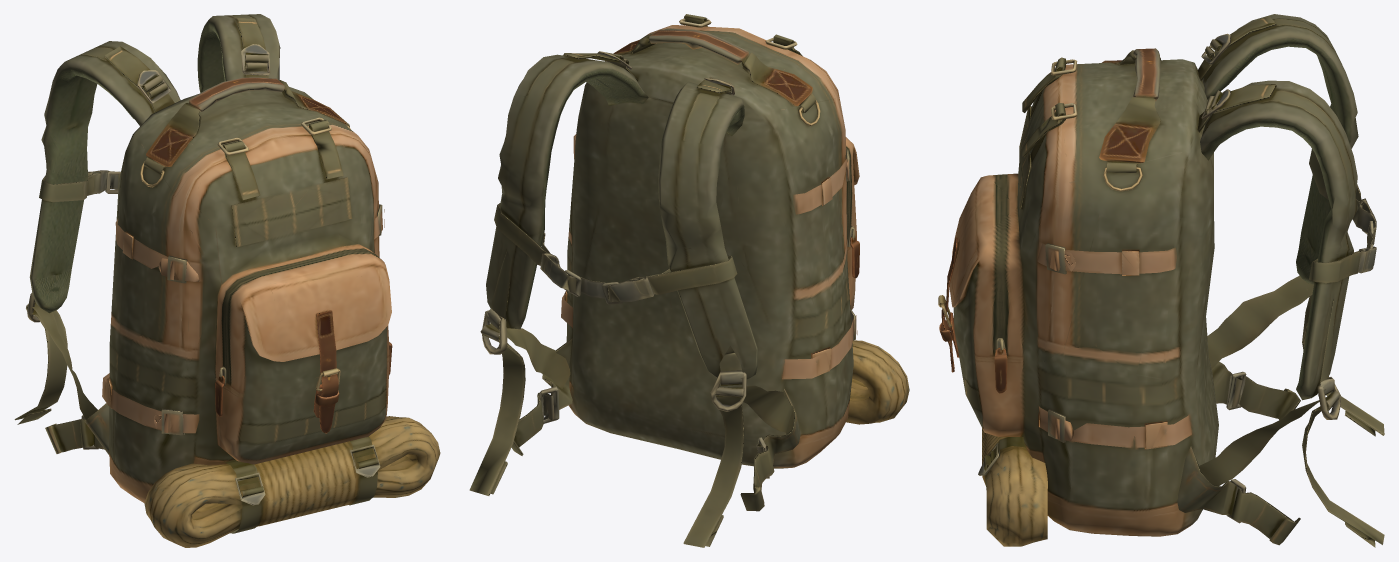
The model's file is hunter-pack.glb.
3 renders of one model, left to right at view 1: azimuth 30°, elevation 25°; view 2: azimuth 150°, elevation 25°; view 3: azimuth 270°, elevation 25°, orthographic. The views are drawn at different scales.
Visible parts, largest first — view 1: geometry_0; view 2: geometry_0; view 3: geometry_0.
Boxes of the visible parts, bbox=[...] form: geometry_0: bbox=[14, 14, 440, 547]; geometry_0: bbox=[469, 14, 909, 547]; geometry_0: bbox=[938, 14, 1384, 547].
Bounding box in the file's own units: 0.7031 × 0.9507 × 0.8867.
1 material, 1 textured.
